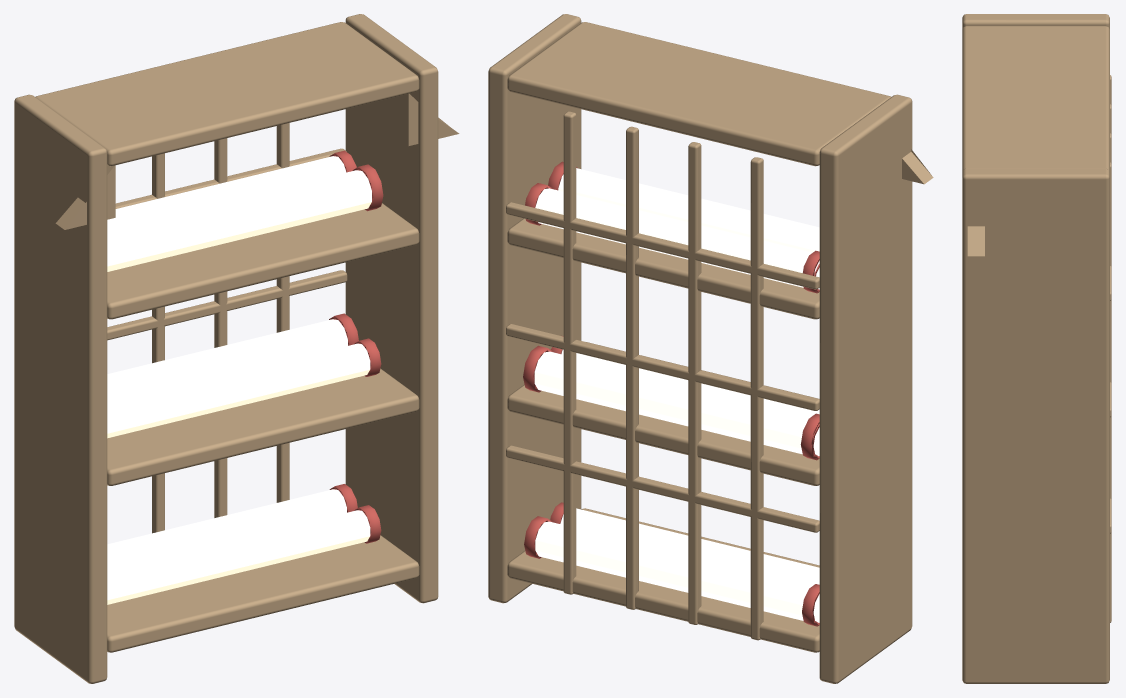
The model's file is scroll-rack.glb.
3 views of the same model, side by side, from view 1: azimuth 30°, elevation 25°; view 2: azimuth 150°, elevation 25°; view 3: azimuth 270°, elevation 25° (orthographic). The views are drawn at different scales.
Parts seen in each view (by area): view 1: scroll-rack; view 2: scroll-rack; view 3: scroll-rack.
Part boxes in pixels (x1,y1,x2,y2): scroll-rack: [14, 14, 459, 683]; scroll-rack: [488, 14, 933, 683]; scroll-rack: [962, 14, 1111, 683].
Bounding box in the file's own units: 1.24 × 1.6 × 0.4251.
